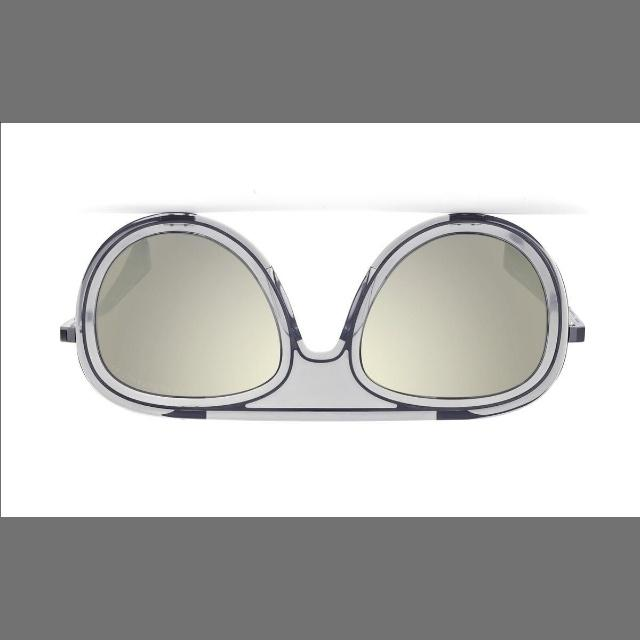Sunglasses: (31, 184, 613, 438)
